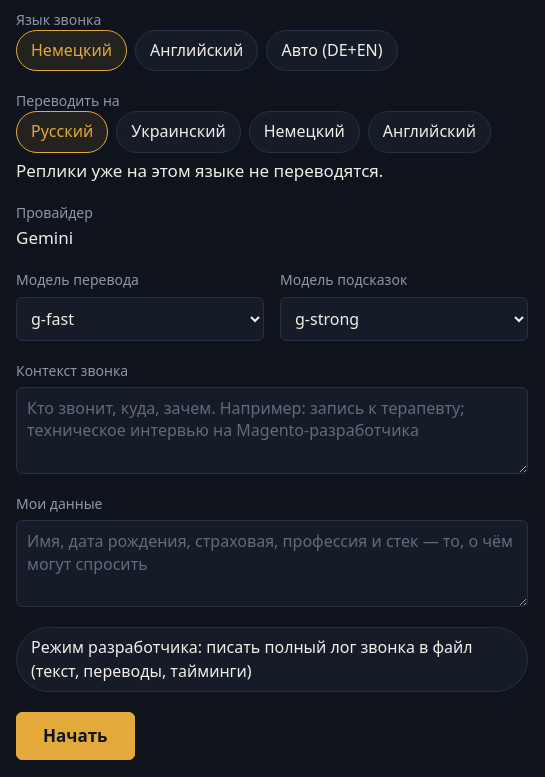
it: starting a call › keeps the form and explains the reason when audio could not be obtained
(page scrolled)
Click the button "Начать": {"x": 75, "y": 736} [16,712,134,760]
(page scrolled)
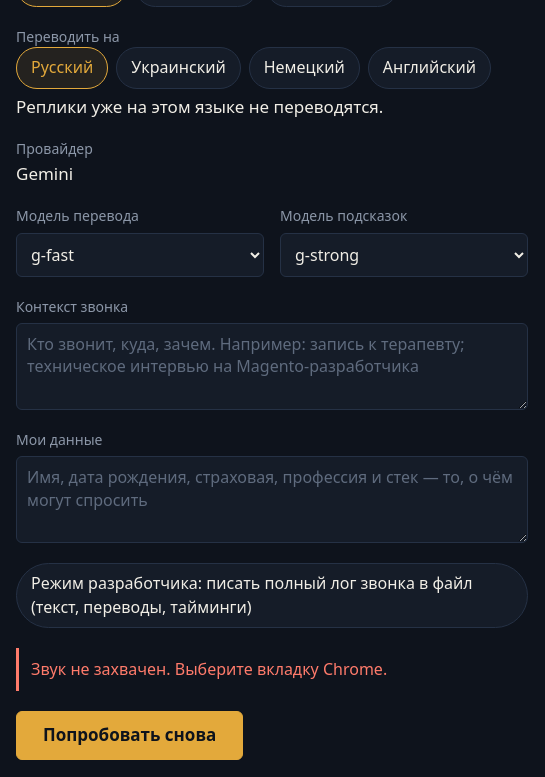
Now the message reads "Звук не захвачен. Выберите вкладку Chrome.", box [31,658,387,680]
Now the button "Попробовать снова" is shown, box [16,711,243,760]
